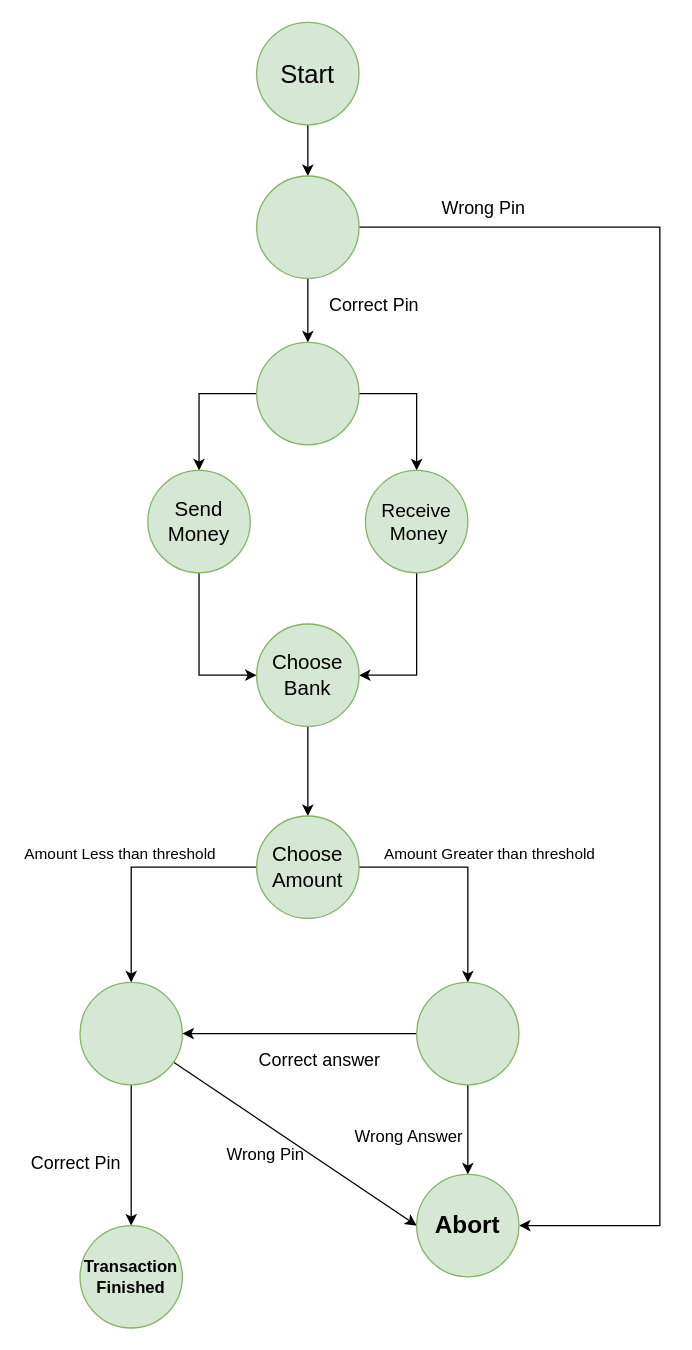
The diagram is 692 pixels wide and 1350 high, and some of its shapes have lost their labels. The shapes that lost their labels are listed below. From the top down, each one's box as (x1, y1, x2, y2) in pixels, then its label:
(255, 175, 359, 278): Login
(255, 341, 359, 445): Types of Transaction
(79, 981, 182, 1085): Transaction Pin
(415, 981, 519, 1085): Security Question
